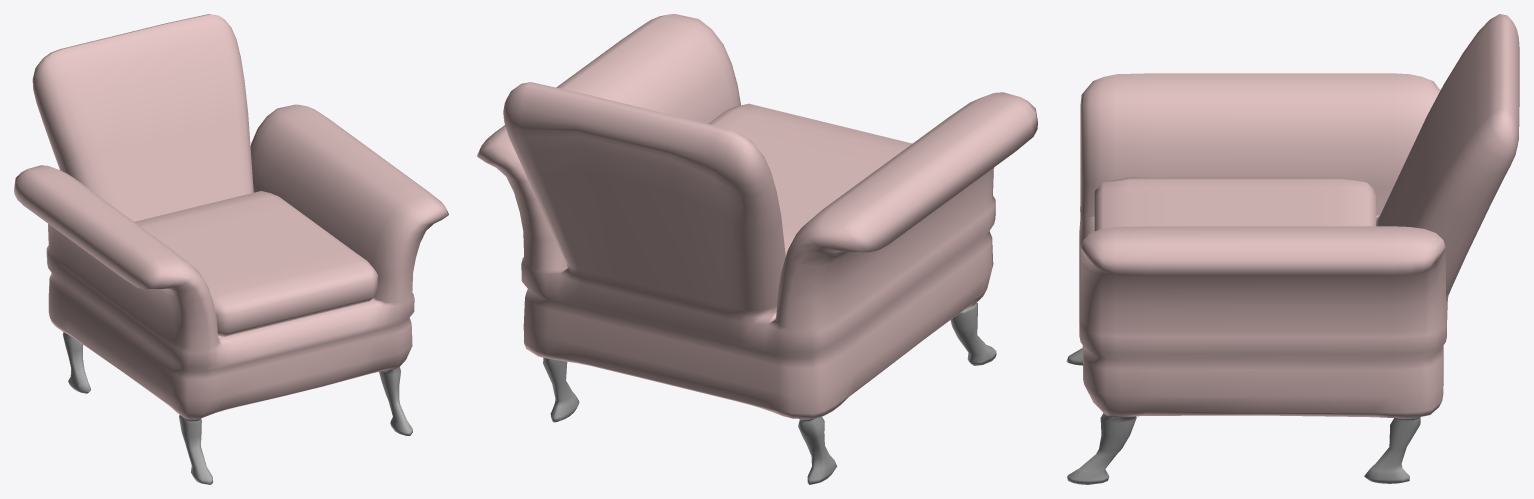
The model's file is ArmChair.fbx.
The picture shows the model from 3 angles, left to right: view 1: azimuth 30°, elevation 25°; view 2: azimuth 150°, elevation 25°; view 3: azimuth 270°, elevation 25°; orthographic projection. The views are drawn at different scales.
Visible parts, largest first — view 1: ArmChair, ArmChair_Cushion; view 2: ArmChair, ArmChair_Cushion; view 3: ArmChair, ArmChair_Cushion.
Part boxes in pixels (<box>): ArmChair: <box>14,14,448,484</box>; ArmChair_Cushion: <box>134,191,377,336</box>; ArmChair: <box>477,14,1037,484</box>; ArmChair_Cushion: <box>708,103,912,256</box>; ArmChair: <box>1066,14,1519,484</box>; ArmChair_Cushion: <box>1094,177,1375,231</box>.
Size of the model in its own units: 122 by 113 by 127.
